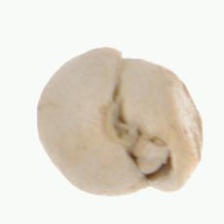L3: (102, 93, 181, 187)
L4: (37, 47, 203, 196)
